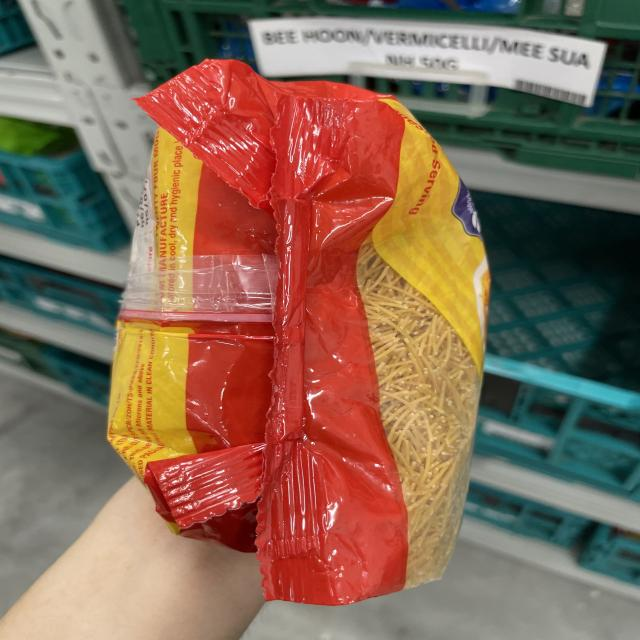object_name: (142, 91, 440, 564)
